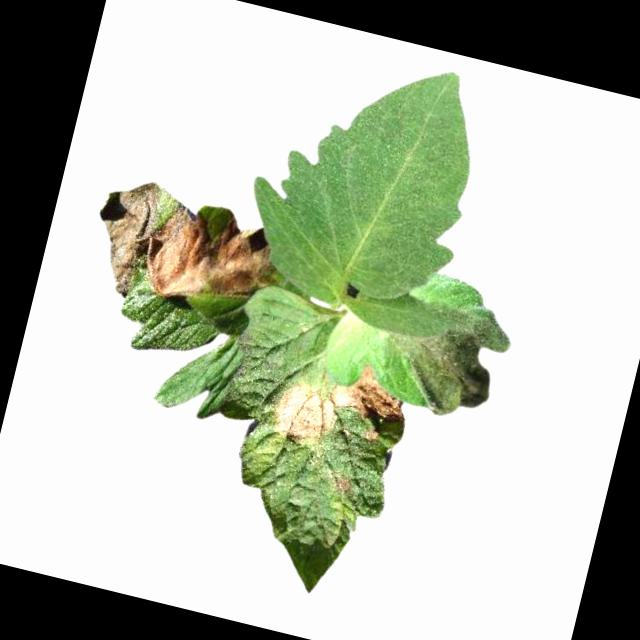Late_blight: (80, 170, 291, 331), (368, 289, 516, 429), (268, 346, 414, 466), (329, 479, 351, 496)
